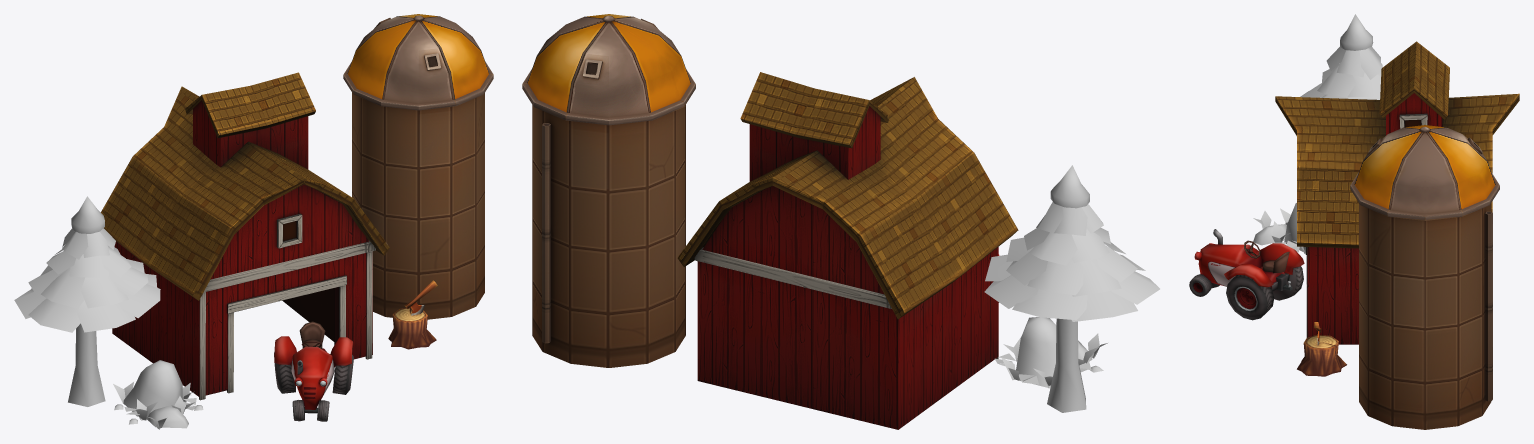
File: farm.fbx
3 views of the same model, side by side, from view 1: azimuth 30°, elevation 25°; view 2: azimuth 150°, elevation 25°; view 3: azimuth 270°, elevation 25° (orthographic). The views are drawn at different scales.
Parts seen in each view (by area): view 1: farm_barn, farm_silo, farm_tree, farm_tractor, farm_rocks, farm_stump; view 2: farm_barn, farm_silo, farm_tree, farm_rocks; view 3: farm_silo, farm_barn, farm_tractor, farm_tree, farm_stump, farm_rocks.
Boxes of the visible parts, left/top/right/bottom form: farm_barn: left=101, top=72, right=389, bottom=400; farm_silo: left=343, top=14, right=493, bottom=319; farm_tree: left=14, top=196, right=160, bottom=406; farm_tractor: left=274, top=321, right=353, bottom=421; farm_rocks: left=113, top=360, right=203, bottom=429; farm_stump: left=388, top=280, right=437, bottom=349; farm_barn: left=677, top=72, right=1018, bottom=429; farm_silo: left=522, top=14, right=695, bottom=367; farm_tree: left=984, top=165, right=1159, bottom=412; farm_rocks: left=995, top=317, right=1107, bottom=388; farm_silo: left=1350, top=125, right=1499, bottom=429; farm_barn: left=1275, top=41, right=1519, bottom=344; farm_tractor: left=1189, top=229, right=1304, bottom=320; farm_tree: left=1300, top=14, right=1382, bottom=99; farm_stump: left=1297, top=322, right=1346, bottom=376; farm_rocks: left=1253, top=203, right=1305, bottom=254.
Size of the model in its own units: 656 by 352 by 383.
